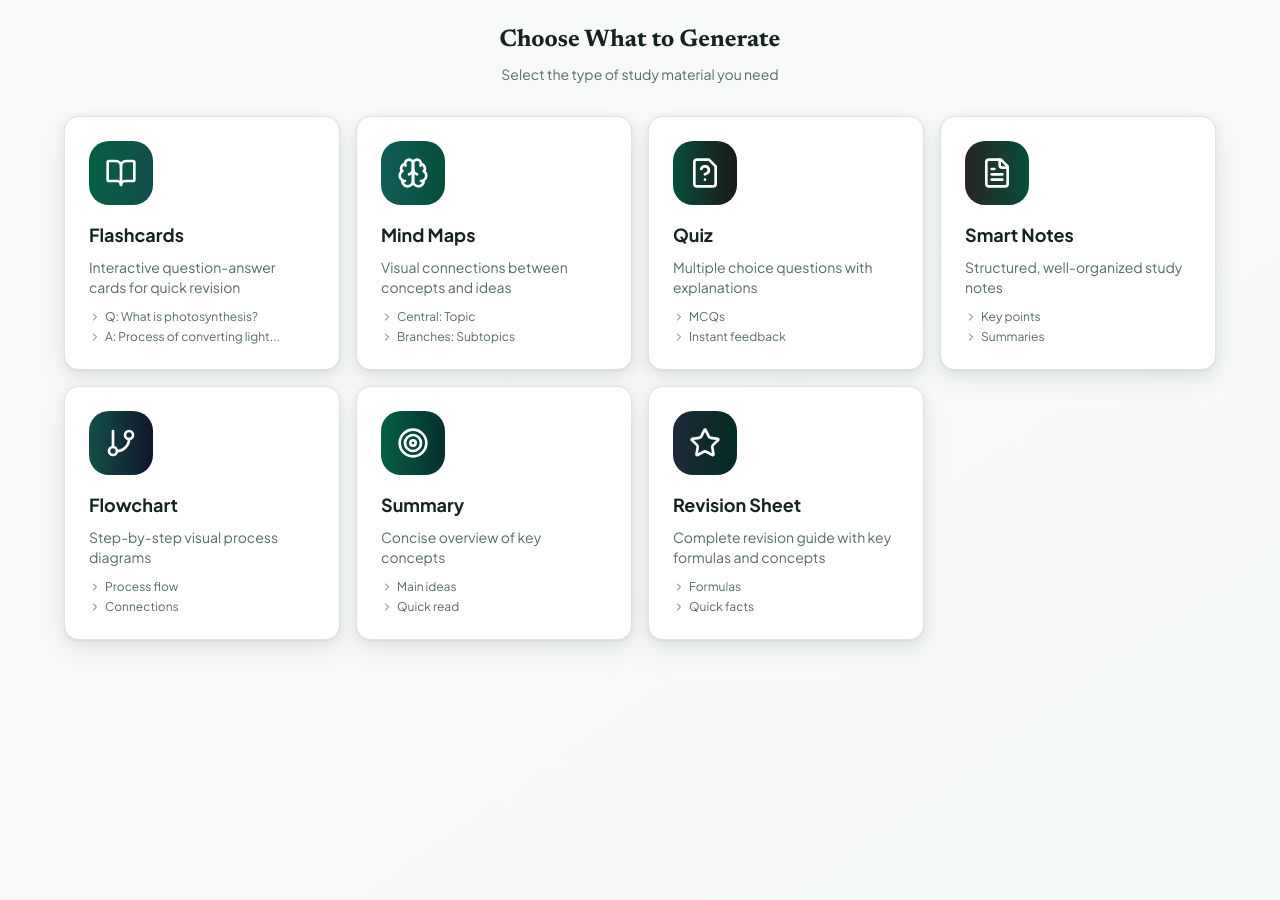
Test: AI Study Material Generator - Dual Source Modes & Grounded Retrieval › 5. Allows switching to New Material mode to upload files, paste notes, or enter a topic
Click the heading "Flashcards": coordinates (136, 234) [89,223,184,246]
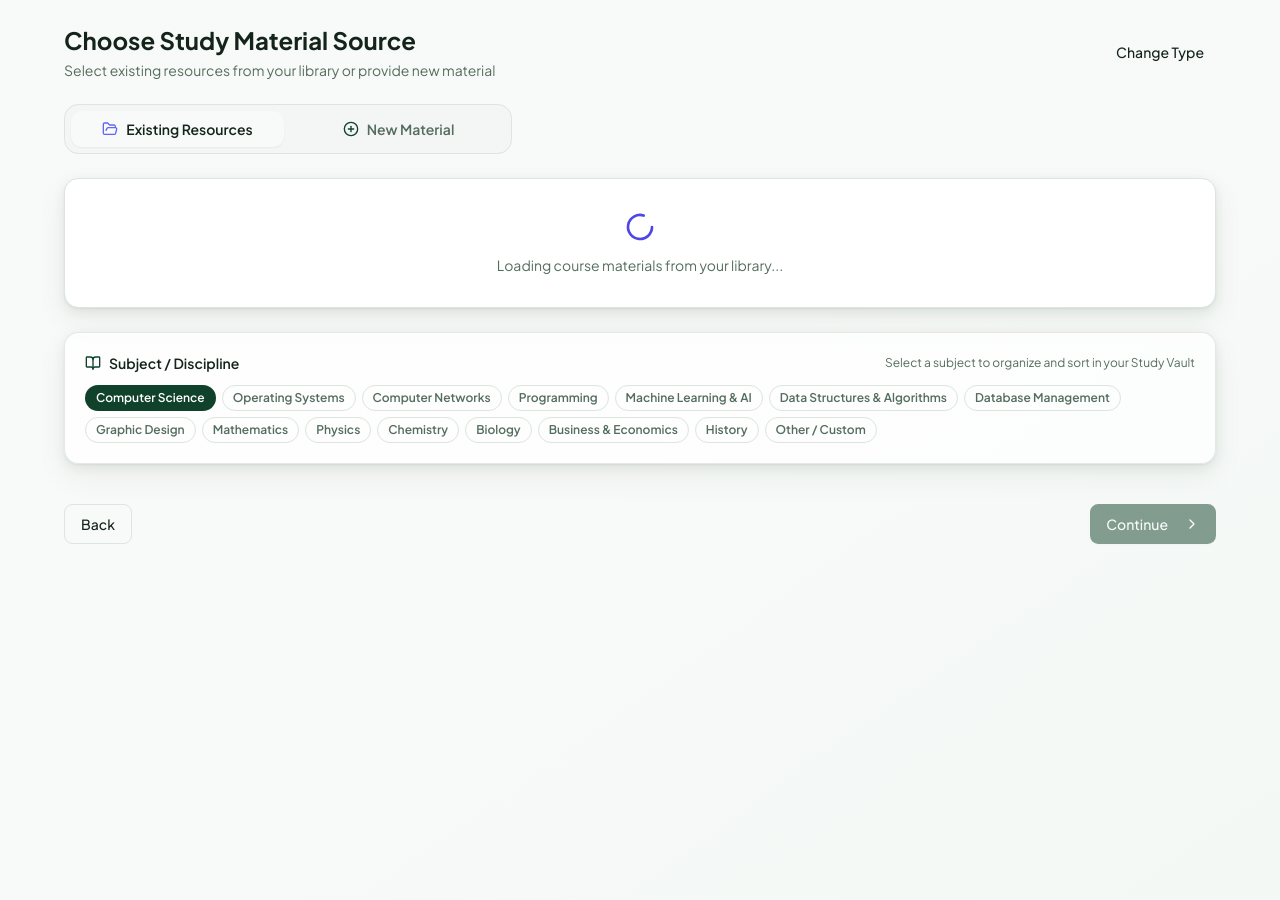
Check: the button "New Material" is shown
Note: Switch to New Material
Click the button "New Material": coordinates (398, 129) [292,111,505,147]
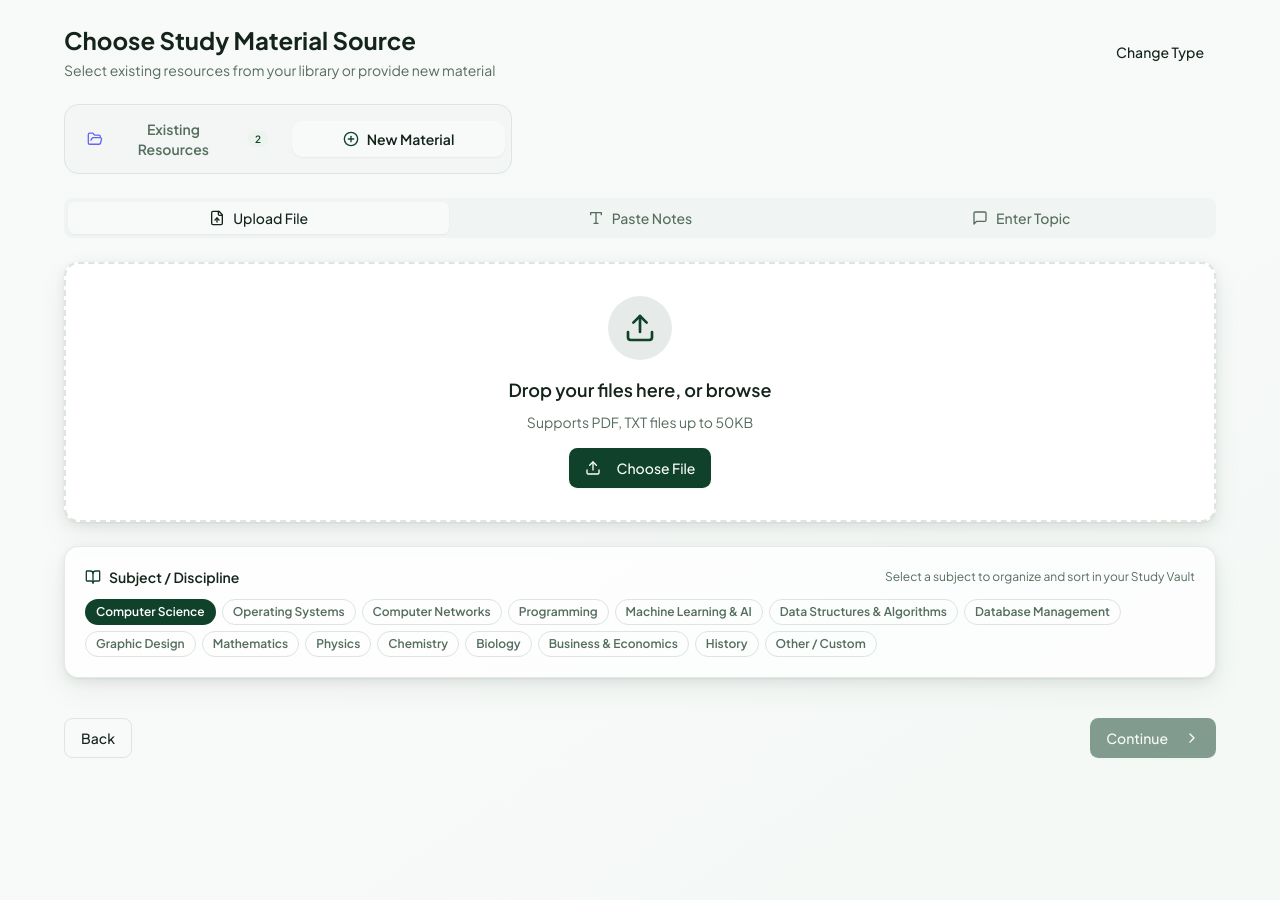
Check: the tab "Upload File" is shown, box [68,202,449,234]
Check: the tab "Paste Notes" is shown, box [449,202,831,234]
Check: the tab "Enter Topic" is shown, box [831,202,1212,234]
